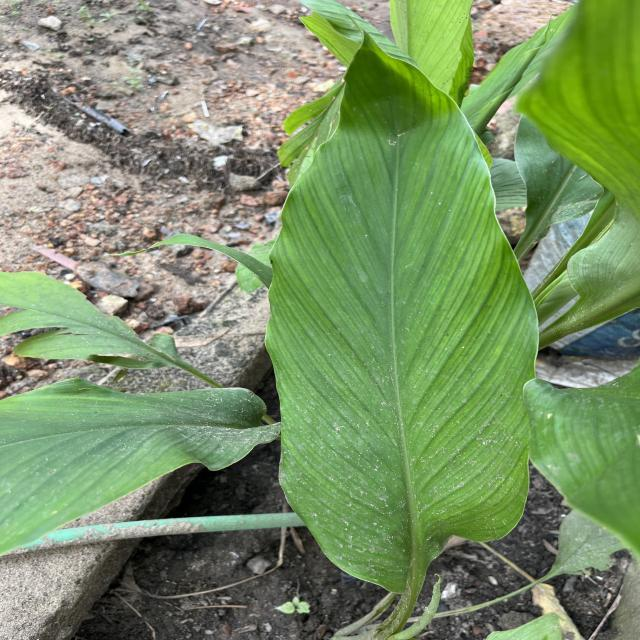Curcuma longa: (260, 18, 546, 602)
